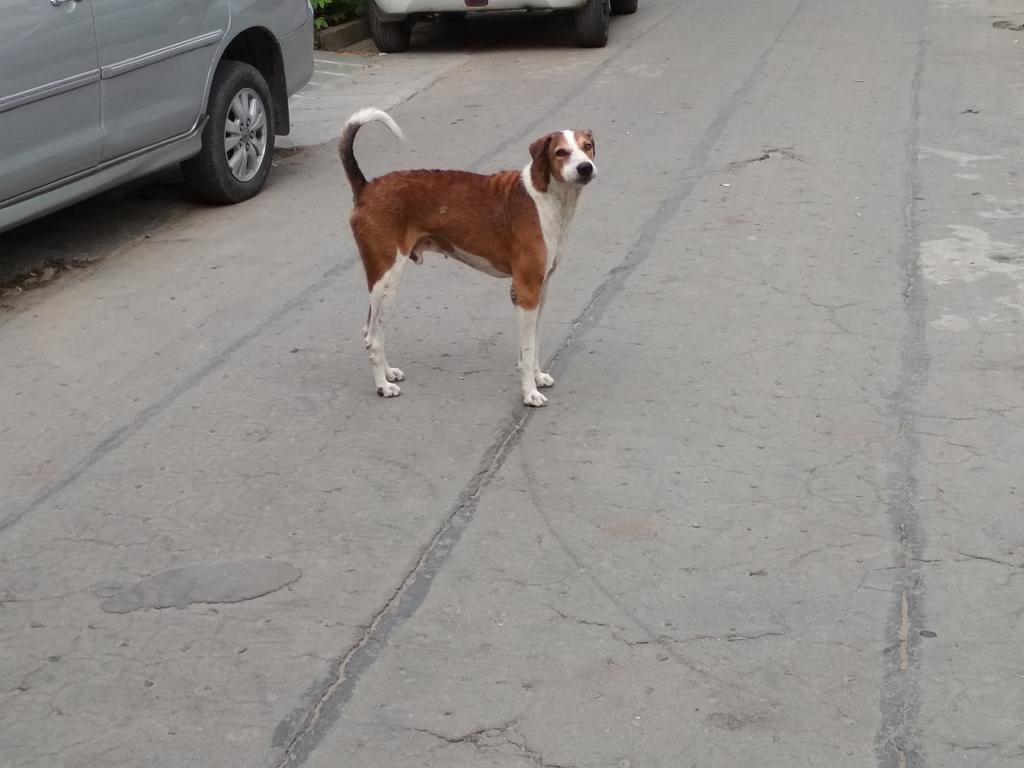dog: (340, 107, 597, 407)
